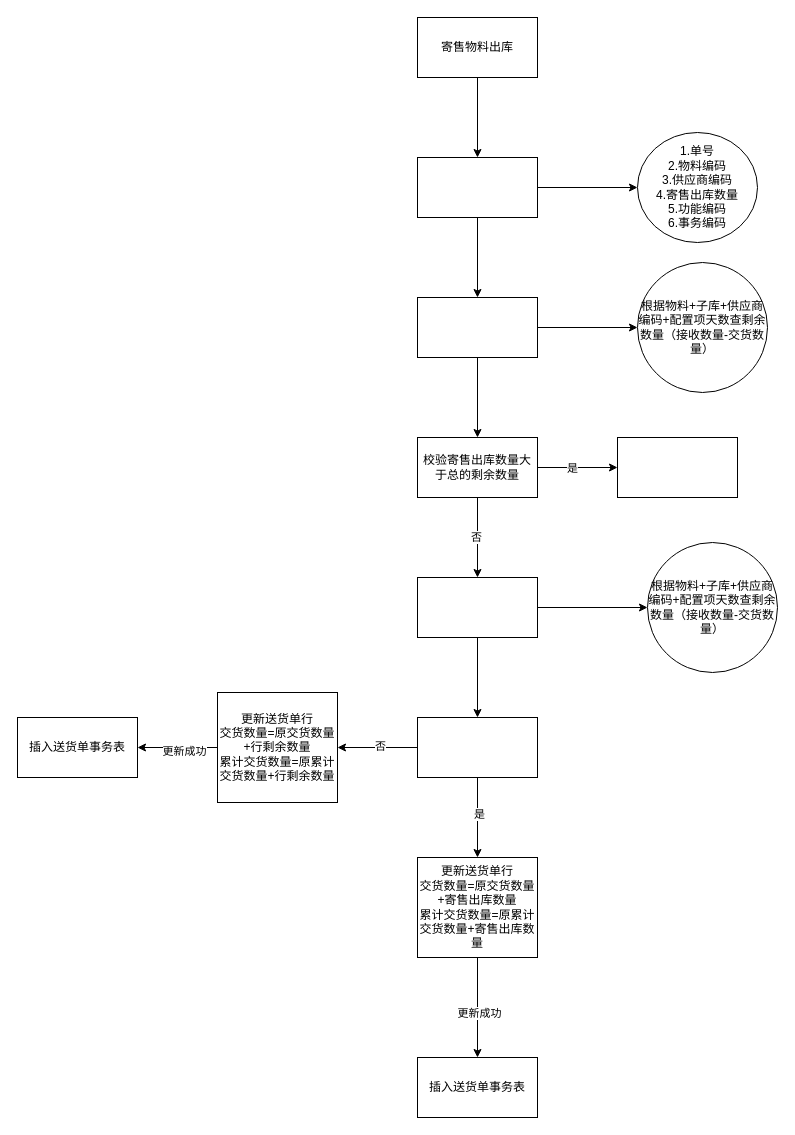
The diagram is 795 pixels wide and 1135 high, and some of its shapes have lost their labels. Here are the shapes that lost their labels. From the top down, the box of each, then its label:
(416, 156, 538, 218): 校验参数
(416, 296, 538, 358): 查询总的剩余数量
(616, 436, 738, 498): 报错提示
(416, 576, 538, 638): 查询送货单行
(416, 716, 538, 778): 校验寄售出库数量大于等于行剩余数量
